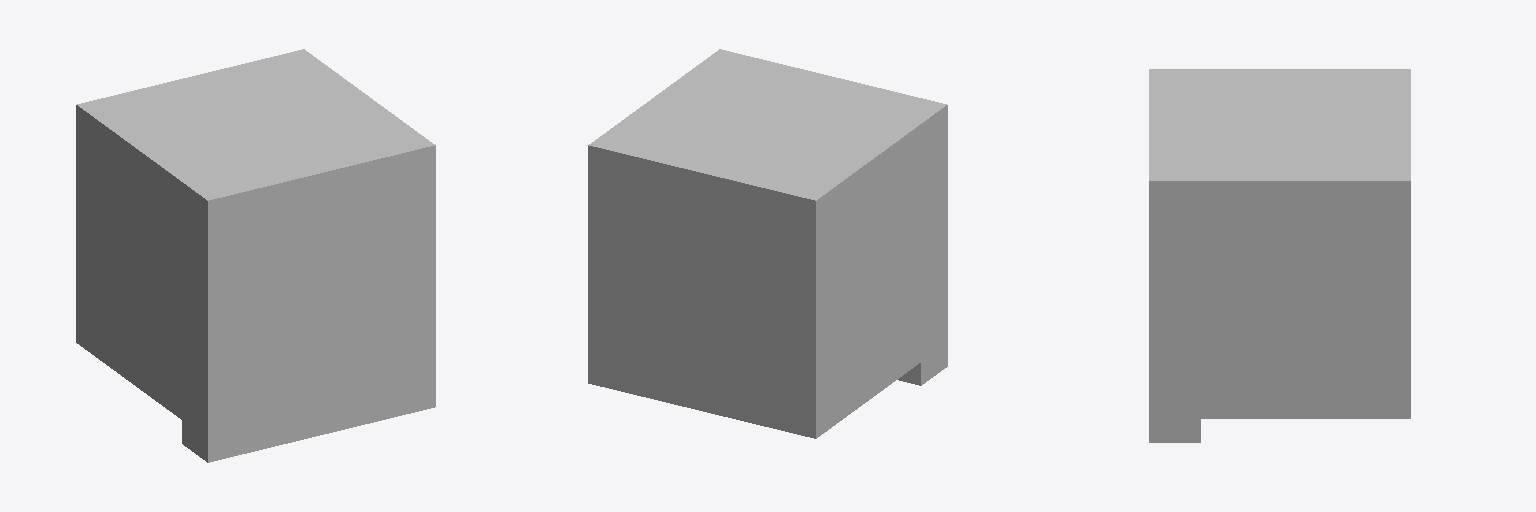
File: cube_border_100x100x100.obj
3 views of the same model, side by side, from view 1: azimuth 30°, elevation 25°; view 2: azimuth 150°, elevation 25°; view 3: azimuth 270°, elevation 25° (orthographic).
Parts seen in each view (by area): view 1: Part1; view 2: Part1; view 3: Part1.
Boxes of the visible parts, x1,y1,x2,y2 form: Part1: [76, 49, 435, 462]; Part1: [588, 49, 947, 438]; Part1: [1149, 69, 1410, 442].
Size of the model in its own units: 100 by 110 by 100.